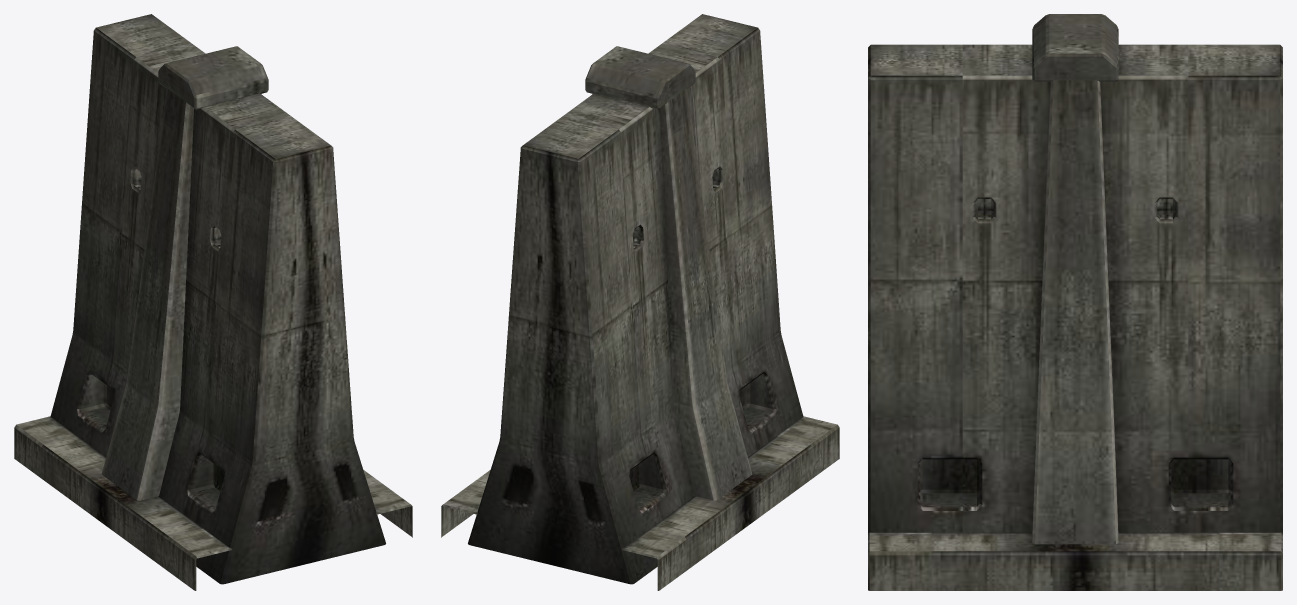
The model's file is stone-wall-ns.glb.
3 views of the same model, side by side, from view 1: azimuth 30°, elevation 25°; view 2: azimuth 150°, elevation 25°; view 3: azimuth 270°, elevation 25° (orthographic). The views are drawn at different scales.
Parts seen in each view (by area): view 1: body; view 2: body; view 3: body.
Part boxes in pixels (x1,y1,x2,y2): body: (14, 14, 412, 590); body: (441, 14, 839, 590); body: (868, 14, 1282, 590).
Bounding box in the file's own units: 0.6932 × 1.32 × 1.
Materials: 1 (1 with a texture image).
